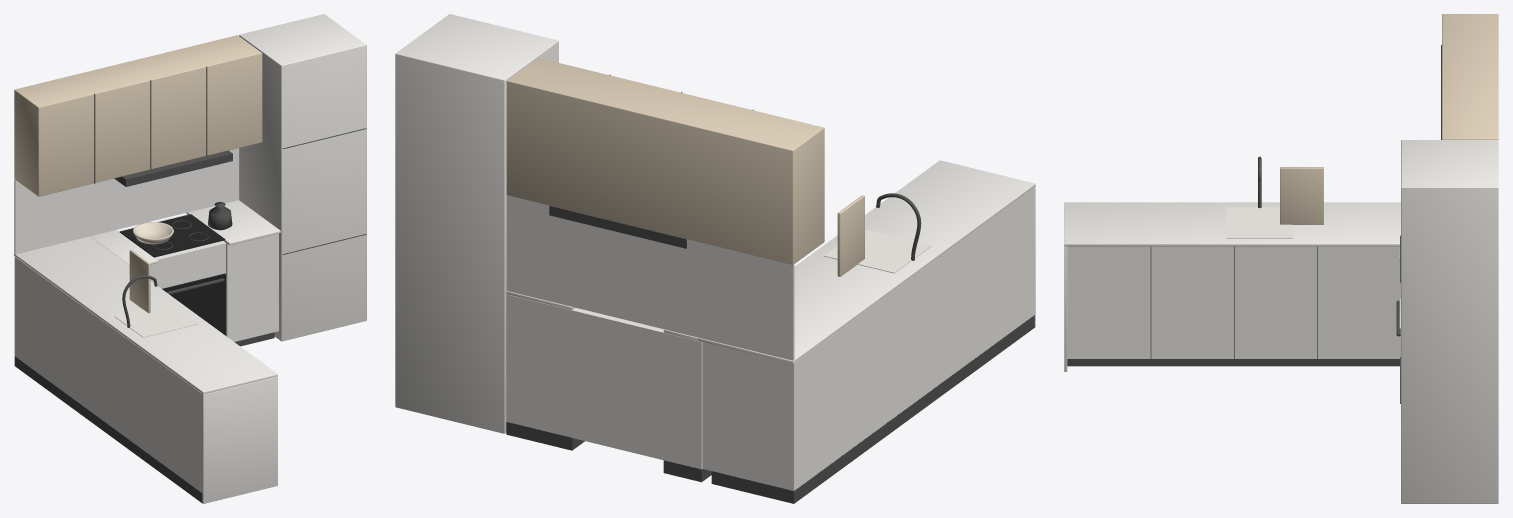
The model's file is mo_kitchen_set.glb.
3 renders of one model, left to right at view 1: azimuth 30°, elevation 25°; view 2: azimuth 150°, elevation 25°; view 3: azimuth 270°, elevation 25°, orthographic. The views are drawn at different scales.
Visible parts, largest first — view 1: fridge, upper, base_w, top_w, splash, endpanel, base_n1, rangebody, plinth_w, ovendoor, hob, top_n1 (+6 smaller); view 2: fridge, upper, base_w, splash, top_w, rangebody, base_n1, base_n0, plinth_w, sink, board, hood (+1 smaller); view 3: base_w, fridge, top_w, upper, plinth_w, board, sink, endpanel.
Boxes of the visible parts, x1,y1,x2,y2 form: fridge: (239, 14, 366, 341); upper: (14, 35, 262, 196); base_w: (14, 257, 202, 492); top_w: (14, 236, 277, 394); splash: (14, 148, 238, 254); endpanel: (202, 376, 277, 503); base_n1: (223, 233, 278, 341); rangebody: (118, 214, 225, 288); plinth_w: (14, 356, 202, 503); ovendoor: (162, 273, 225, 335); hob: (119, 214, 225, 257); top_n1: (186, 200, 280, 245); fridge: (395, 14, 558, 433); upper: (506, 58, 824, 264); base_w: (702, 187, 1034, 490); splash: (506, 195, 794, 360); top_w: (697, 160, 1035, 363); rangebody: (572, 308, 663, 460); base_n1: (506, 294, 574, 437); base_n0: (663, 332, 702, 469); plinth_w: (711, 315, 1034, 503); sink: (824, 229, 931, 273); board: (837, 195, 864, 276); hood: (549, 205, 686, 248); base_w: (1067, 246, 1400, 358); fridge: (1401, 140, 1498, 503); top_w: (1064, 202, 1400, 246); upper: (1442, 14, 1498, 139); plinth_w: (1067, 359, 1399, 366); board: (1280, 167, 1323, 224); sink: (1226, 207, 1292, 238); endpanel: (1064, 246, 1067, 371).
Bounding box in the file's own units: 2.61 × 2.22 × 2.76.
